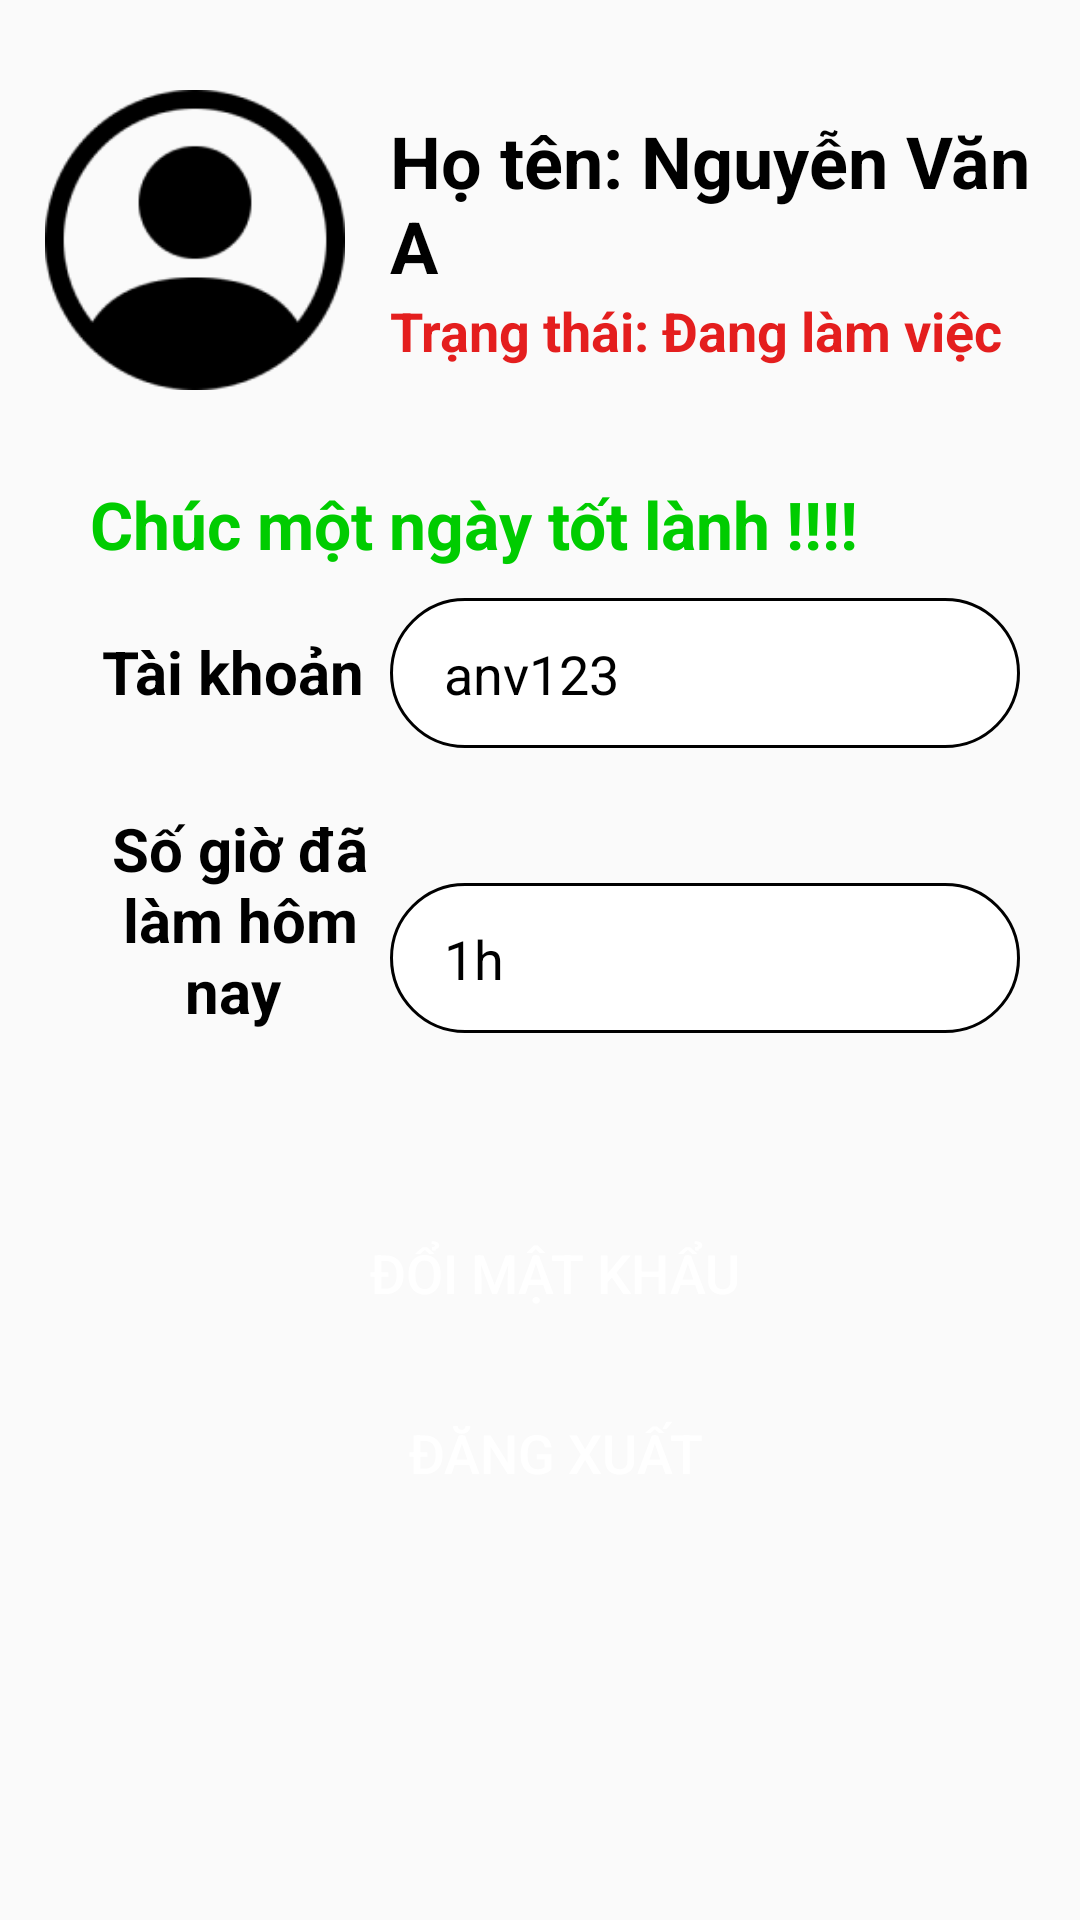

Where to tap for icons on this 1080*1920 app screen, as (x=x, y=y):
nhanvien: (x=195, y=240)
